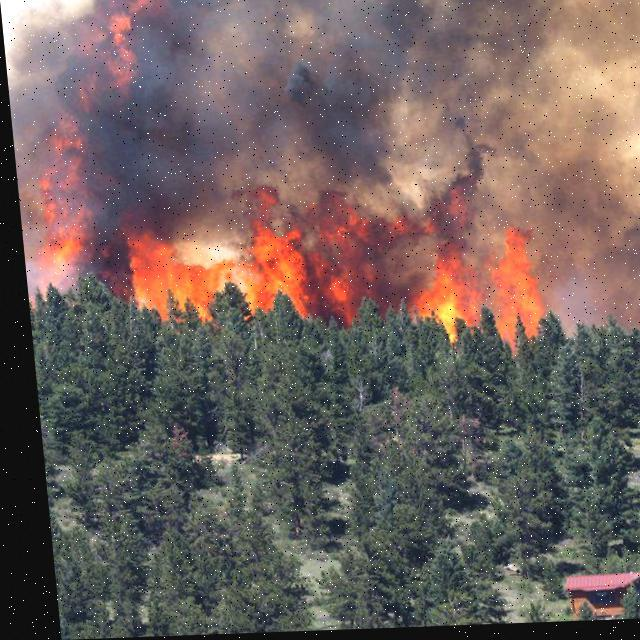Fire: (126, 215, 542, 326), (28, 120, 98, 278)
